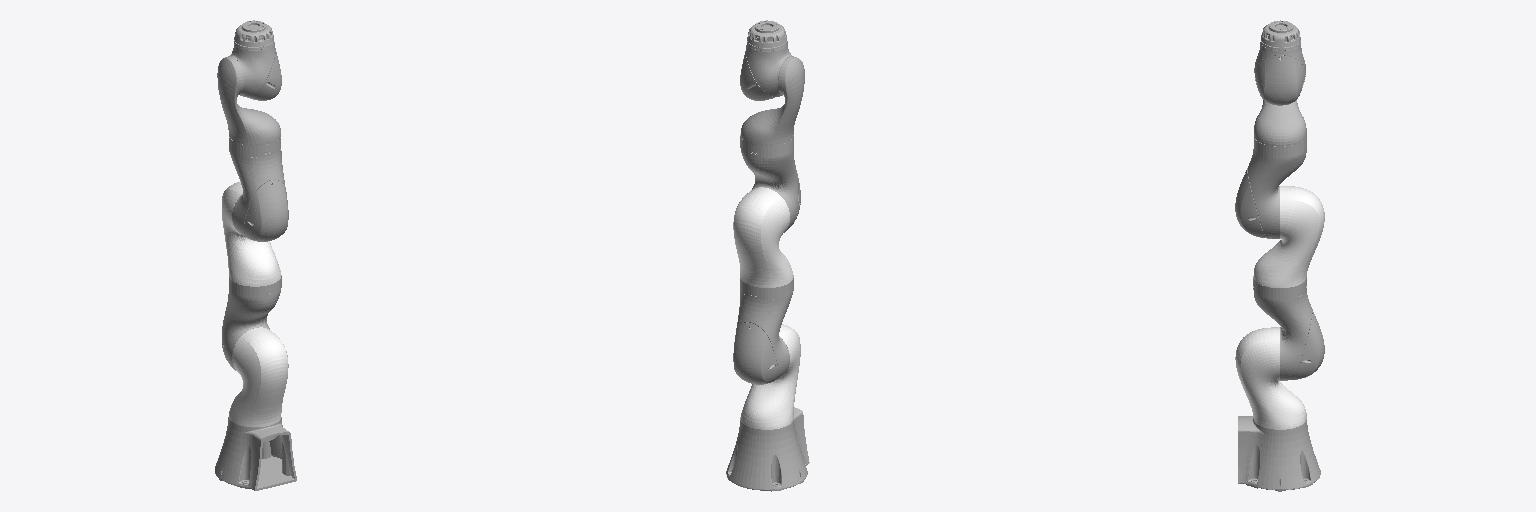
robot.urdf — DOBO1:
<?xml version="1.0" encoding="utf-8"?>
<!-- This URDF was automatically created by SolidWorks to URDF Exporter! Originally created by [author] ([email redacted]) 
     Commit Version: 1.6.0-1-g15f4949  Build Version: 1.6.7594.29634
     For more information, please see http://wiki.ros.org/sw_urdf_exporter -->
<robot
  name="DOBO1">
  <link name="world" />
  <joint name="world_virtual_joint" type="fixed">
    <parent link="world"/>
    <child link="base_link"/>
  </joint>
  <link
    name="base_link">
    <inertial>
      <origin xyz="0 0 0" rpy="0 0 0" />
      <mass value="3.06" />
      <inertia ixx="0.3" ixy="0.0" ixz="0.0" iyy="0.3" iyz="0.0" izz="0.3" />
    </inertial>
    <visual>
      <origin
        xyz="0 0 0"
        rpy="0 0 0" />
      <geometry>
        <mesh
          filename="package://DOBO1/meshes/base_link.STL" />
      </geometry>
      <material
        name="">
        <color
          rgba="0.752941176470588 0.752941176470588 0.752941176470588 1" />
      </material>
    </visual>
    <collision>
      <origin
        xyz="0 0 0"
        rpy="0 0 0" />
      <geometry>
        <mesh
          filename="package://DOBO1/meshes/base_link.STL" />
      </geometry>
    </collision>
  </link>
  <link
    name="link_1">
    <inertial>
      <origin xyz="0 0 0" rpy="0 0 0" />
      <mass value="3.06" />
      <inertia ixx="0.3" ixy="0.0" ixz="0.0" iyy="0.3" iyz="0.0" izz="0.3" />
    </inertial>
    <visual>
      <origin
        xyz="0 0 0"
        rpy="0 0 0" />
      <geometry>
        <mesh
          filename="package://DOBO1/meshes/link_1.STL" />
      </geometry>
      <material
        name="">
        <color
          rgba="1 1 1 1" />
      </material>
    </visual>
    <collision>
      <origin
        xyz="0 0 0"
        rpy="0 0 0" />
      <geometry>
        <mesh
          filename="package://DOBO1/meshes/link_1.STL" />
      </geometry>
    </collision>
  </link>
  <joint
    name="joint_1"
    type="revolute">
    <origin
      xyz="0 -0.0025539 0.13584"
      rpy="0 0 0" />
    <parent
      link="base_link" />
    <child
      link="link_1" />
    <axis
      xyz="0 0 -1" />
    <limit
      lower="-0.785"
      upper="3.926"
      effort="87"
      velocity="2.1750" />
    <dynamics damping="1.0"/> 
  </joint>
  <link
    name="link_2">
    <inertial>
      <origin xyz="0 0 0" rpy="0 0 0" />
      <mass value="3.06" />
      <inertia ixx="0.3" ixy="0.0" ixz="0.0" iyy="0.3" iyz="0.0" izz="0.3" />
    </inertial>
    <visual>
      <origin
        xyz="0 0 0"
        rpy="0 0 0" />
      <geometry>
        <mesh
          filename="package://DOBO1/meshes/link_2.STL" />
      </geometry>
      <material
        name="">
        <color
          rgba="0.752941176470588 0.752941176470588 0.752941176470588 1" />
      </material>
    </visual>
    <collision>
      <origin
        xyz="0 0 0"
        rpy="0 0 0" />
      <geometry>
        <mesh
          filename="package://DOBO1/meshes/link_2.STL" />
      </geometry>
    </collision>
  </link>
  <joint
    name="joint_2"
    type="revolute">
    <origin
      xyz="0 0 0.15026"
      rpy="-1.5708 0 0" />
    <parent
      link="link_1" />
    <child
      link="link_2" />
    <axis
      xyz="0 0 -1" />
    <limit
      lower="-0.785"
      upper="3.926"
      effort="87"
      velocity="2.1750" />
    <dynamics damping="1.0"/>
  </joint>
  <link
    name="link_3">
    <inertial>
      <origin xyz="0 0 0" rpy="0 0 0" />
      <mass value="3.06" />
      <inertia ixx="0.3" ixy="0.0" ixz="0.0" iyy="0.3" iyz="0.0" izz="0.3" />
    </inertial>
    <visual>
      <origin
        xyz="0 0 0"
        rpy="0 0 0" />
      <geometry>
        <mesh
          filename="package://DOBO1/meshes/link_3.STL" />
      </geometry>
      <material
        name="">
        <color
          rgba="1 1 1 1" />
      </material>
    </visual>
    <collision>
      <origin
        xyz="0 0 0"
        rpy="0 0 0" />
      <geometry>
        <mesh
          filename="package://DOBO1/meshes/link_3.STL" />
      </geometry>
    </collision>
  </link>
  <joint
    name="joint_3"
    type="revolute">
    <origin
      xyz="0 -0.169 -0.0003799"
      rpy="1.5708 0 0" />
    <parent
      link="link_2" />
    <child
      link="link_3" />
    <axis
      xyz="0 0 -1" />
    <limit
      lower="-0.785"
      upper="3.926"
      effort="87"
      velocity="2.1750" />
    <dynamics damping="1.0"/>
  </joint>
  <link
    name="link_4">
    <inertial>
      <origin xyz="0 0 0" rpy="0 0 0" />
      <mass value="3.06" />
      <inertia ixx="0.3" ixy="0.0" ixz="0.0" iyy="0.3" iyz="0.0" izz="0.3" />
    </inertial>
    <visual>
      <origin
        xyz="0 0 0"
        rpy="0 0 0" />
      <geometry>
        <mesh
          filename="package://DOBO1/meshes/link_4.STL" />
      </geometry>
      <material
        name="">
        <color
          rgba="0.752941176470588 0.752941176470588 0.752941176470588 1" />
      </material>
    </visual>
    <collision>
      <origin
        xyz="0 0 0"
        rpy="0 0 0" />
      <geometry>
        <mesh
          filename="package://DOBO1/meshes/link_4.STL" />
      </geometry>
    </collision>
  </link>
  <joint
    name="joint_4"
    type="revolute">
    <origin
      xyz="-2.1962E-05 0 0.1506"
      rpy="1.5708 0 0" />
    <parent
      link="link_3" />
    <child
      link="link_4" />
    <axis
      xyz="0 0 -1" />
    <limit
      lower="-0.785"
      upper="3.926"
      effort="87"
      velocity="2.1750" />
    <dynamics damping="1.0"/>
  </joint>
  <link
    name="link_5">
    <inertial>
      <origin xyz="0 0 0" rpy="0 0 0" />
      <mass value="3.06" />
      <inertia ixx="0.3" ixy="0.0" ixz="0.0" iyy="0.3" iyz="0.0" izz="0.3" />
    </inertial>
    <visual>
      <origin
        xyz="0 0 0"
        rpy="0 0 0" />
      <geometry>
        <mesh
          filename="package://DOBO1/meshes/link_5.STL" />
      </geometry>
      <material
        name="">
        <color
          rgba="0.752941176470588 0.752941176470588 0.752941176470588 1" />
      </material>
    </visual>
    <collision>
      <origin
        xyz="0 0 0"
        rpy="0 0 0" />
      <geometry>
        <mesh
          filename="package://DOBO1/meshes/link_5.STL" />
      </geometry>
    </collision>
  </link>
  <joint
    name="joint_5"
    type="revolute">
    <origin
      xyz="2.1962E-05 0.1736 -0.00037968"
      rpy="-1.5708 0 0" />
    <parent
      link="link_4" />
    <child
      link="link_5" />
    <axis
      xyz="0 0 -1" />
    <limit
      lower="-0.785"
      upper="3.926"
      effort="87"
      velocity="2.1750" />
    <dynamics damping="1.0"/>
  </joint>
  <link
    name="link_6">
    <inertial>
      <origin xyz="0 0 0" rpy="0 0 0" />
      <mass value="3.06" />
      <inertia ixx="0.3" ixy="0.0" ixz="0.0" iyy="0.3" iyz="0.0" izz="0.3" />
    </inertial>
    <visual>
      <origin
        xyz="0 0 0"
        rpy="0 0 0" />
      <geometry>
        <mesh
          filename="package://DOBO1/meshes/link_6.STL" />
      </geometry>
      <material
        name="">
        <color
          rgba="0.752941176470588 0.752941176470588 0.752941176470588 1" />
      </material>
    </visual>
    <collision>
      <origin
        xyz="0 0 0"
        rpy="0 0 0" />
      <geometry>
        <mesh
          filename="package://DOBO1/meshes/link_6.STL" />
      </geometry>
    </collision>
  </link>
  <joint
    name="joint_6"
    type="revolute">
    <origin
      xyz="0 0 0.14599"
      rpy="1.5708 0 1.5708" />
    <parent
      link="link_5" />
    <child
      link="link_6" />
    <axis
      xyz="0 0 -1" />
    <limit
      lower="-0.785"
      upper="3.926"
      effort="87"
      velocity="2.1750" />
    <dynamics damping="1.0"/>
  </joint>
  <link
    name="link_7">
    <inertial>
      <origin xyz="0 0 0" rpy="0 0 0" />
      <mass value="3.06" />
      <inertia ixx="0.3" ixy="0.0" ixz="0.0" iyy="0.3" iyz="0.0" izz="0.3" />
    </inertial>
    <visual>
      <origin
        xyz="0 0 0"
        rpy="0 0 0" />
      <geometry>
        <mesh
          filename="package://DOBO1/meshes/link_7.STL" />
      </geometry>
      <material
        name="">
        <color
          rgba="0.752941176470588 0.752941176470588 0.752941176470588 1" />
      </material>
    </visual>
    <collision>
      <origin
        xyz="0 0 0"
        rpy="0 0 0" />
      <geometry>
        <mesh
          filename="package://DOBO1/meshes/link_7.STL" />
      </geometry>
    </collision>
  </link>
  <joint
    name="joint_7"
    type="revolute">
    <origin
      xyz="0.0013242 0.070964 -0.0012638"
      rpy="1.5708 0.46949 3.1229" />
    <parent
      link="link_6" />
    <child
      link="link_7" />
    <axis
      xyz="0 0 -1" />
    <limit
      lower="-0.785"
      upper="3.926"
      effort="87"
      velocity="2.1750" />
  </joint>
  
<!-- gazebo 상에서 로봇을 움직일 때 필요한 플러그인 -->
  <transmission name="DOBO_tran_1">
    <type>transmission_interface/SimpleTransmission</type>
    <joint name="joint_1">
      <hardwareInterface>hardware_interface/EffortJointInterface</hardwareInterface>
    </joint>
    <actuator name="DOBO_motor_1">
      <hardwareInterface>hardware_interface/EffortJointInterface</hardwareInterface>
      <mechanicalReduction>1</mechanicalReduction>
    </actuator>
   </transmission>
     <transmission name="DOBO_tran_2">
    <type>transmission_interface/SimpleTransmission</type>
    <joint name="joint_2">
      <hardwareInterface>hardware_interface/EffortJointInterface</hardwareInterface>
    </joint>
    <actuator name="DOBO_motor_2">
      <hardwareInterface>hardware_interface/EffortJointInterface</hardwareInterface>
      <mechanicalReduction>1</mechanicalReduction>
    </actuator>
   </transmission>
     <transmission name="DOBO_tran_3">
    <type>transmission_interface/SimpleTransmission</type>
    <joint name="joint_3">
      <hardwareInterface>hardware_interface/EffortJointInterface</hardwareInterface>
    </joint>
    <actuator name="DOBO_motor_3">
      <hardwareInterface>hardware_interface/EffortJointInterface</hardwareInterface>
      <mechanicalReduction>1</mechanicalReduction>
    </actuator>
   </transmission>
     <transmission name="DOBO_tran_4">
    <type>transmission_interface/SimpleTransmission</type>
    <joint name="joint_4">
      <hardwareInterface>hardware_interface/EffortJointInterface</hardwareInterface>
    </joint>
    <actuator name="DOBO_motor_4">
      <hardwareInterface>hardware_interface/EffortJointInterface</hardwareInterface>
      <mechanicalReduction>1</mechanicalReduction>
    </actuator>
   </transmission>
     <transmission name="DOBO_tran_5">
    <type>transmission_interface/SimpleTransmission</type>
    <joint name="joint_5">
      <hardwareInterface>hardware_interface/EffortJointInterface</hardwareInterface>
    </joint>
    <actuator name="DOBO_motor_5">
      <hardwareInterface>hardware_interface/EffortJointInterface</hardwareInterface>
      <mechanicalReduction>1</mechanicalReduction>
    </actuator>
   </transmission>
     <transmission name="DOBO_tran_6">
    <type>transmission_interface/SimpleTransmission</type>
    <joint name="joint_6">
      <hardwareInterface>hardware_interface/EffortJointInterface</hardwareInterface>
    </joint>
    <actuator name="DOBO_motor_6">
      <hardwareInterface>hardware_interface/EffortJointInterface</hardwareInterface>
      <mechanicalReduction>1</mechanicalReduction>
    </actuator>
   </transmission>
     <transmission name="DOBO_tran_7">
    <type>transmission_interface/SimpleTransmission</type>
    <joint name="joint_7">
      <hardwareInterface>hardware_interface/EffortJointInterface</hardwareInterface>
    </joint>
    <actuator name="DOBO_motor_7">
      <hardwareInterface>hardware_interface/EffortJointInterface</hardwareInterface>
      <mechanicalReduction>1</mechanicalReduction>
    </actuator>
   </transmission>

   <gazebo>
    <plugin name="gazebo_ros_control" filename="libgazebo_ros_control.so"/>
  </gazebo>
<!-- gazebo 상에서 로봇을 움직일 때 필요한 플러그인 -->
  

</robot>

--- What the picture shows (computed from the rendered views, not written in the file) ---
3 views of the same robot in one strip: view 1: azimuth 30°, elevation 25°; view 2: azimuth 150°, elevation 25°; view 3: azimuth 270°, elevation 25° (orthographic).
Robot: DOBO1 — 9 links, 8 joints (7 revolute, 1 fixed); root link world; default pose: all joints at 0.
Visible links, largest first — view 1: link_4, link_1, base_link, link_3, link_5, link_2, link_6, link_7; view 2: link_2, base_link, link_3, link_1, link_5, link_4, link_6, link_7; view 3: base_link, link_3, link_1, link_4, link_2, link_6, link_5, link_7.
Link boxes in pixels (box(x1,y1,x2,y2)): link_4: box(229, 137, 288, 241); link_1: box(229, 327, 288, 427); base_link: box(215, 417, 296, 490); link_3: box(222, 181, 280, 286); link_5: box(217, 56, 280, 145); link_2: box(222, 275, 281, 370); link_6: box(230, 33, 281, 100); link_7: box(234, 20, 273, 46); link_2: box(733, 278, 793, 384); base_link: box(726, 407, 809, 491); link_3: box(733, 187, 793, 287); link_1: box(740, 324, 800, 429); link_5: box(741, 56, 804, 145); link_4: box(740, 134, 800, 232); link_6: box(740, 37, 791, 100); link_7: box(747, 20, 786, 47); base_link: box(1238, 416, 1320, 491); link_3: box(1253, 186, 1324, 287); link_1: box(1235, 327, 1306, 429); link_4: box(1235, 137, 1306, 238); link_2: box(1253, 277, 1324, 380); link_6: box(1254, 35, 1305, 105); link_5: box(1254, 100, 1306, 146); link_7: box(1261, 20, 1300, 47).
Size in the robot's own frame: 0.1662 by 0.1835 by 1.01 metres.
8 mesh visuals loaded from 8 distinct referenced files (8 binary STL).
